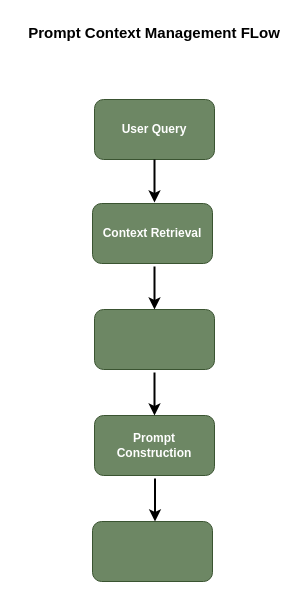
Some shapes in this 308 by 599 pixel diagram are drawn without their labels. The shapes that lost their labels are listed below. From the top down, each one's box as (x1, y1, x2, y2) in pixels, then its label:
(94, 308, 214, 370): Context Filtering
(92, 520, 212, 582): Model Response
